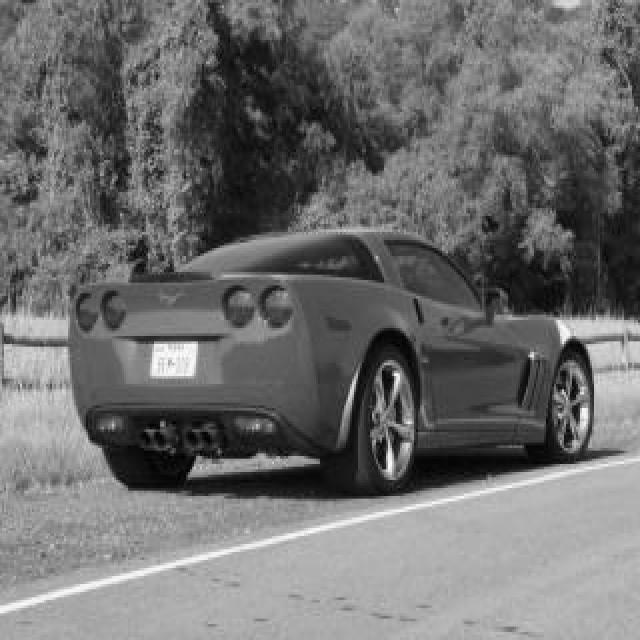Car: (68, 230, 592, 493)
